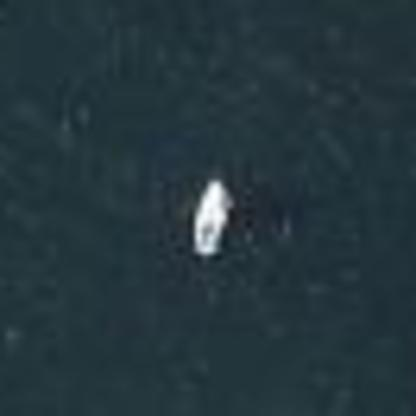ship: (180, 168, 242, 267)
